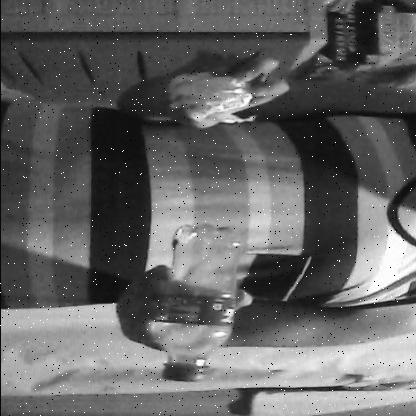Plastic Bottle: (129, 216, 258, 389)
